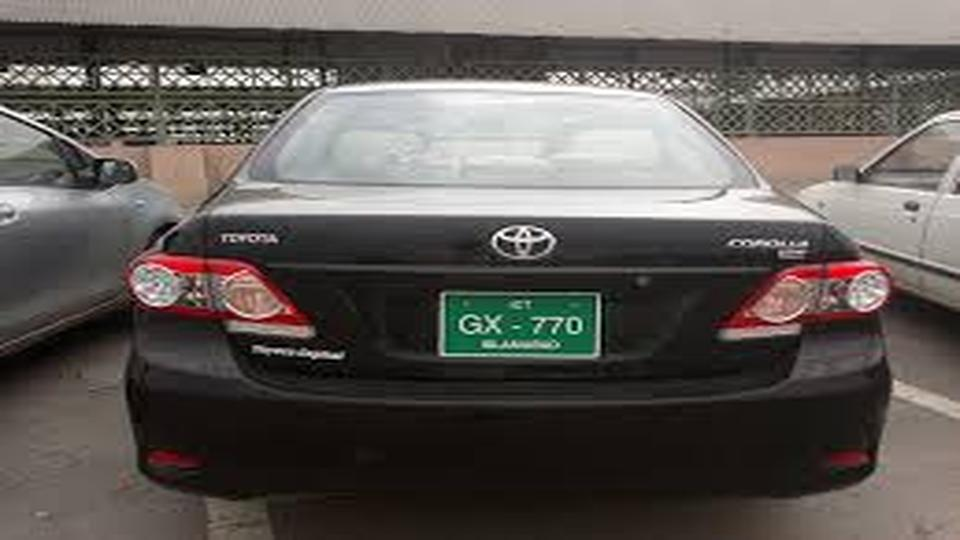NumberPlate: (438, 290, 603, 361)
